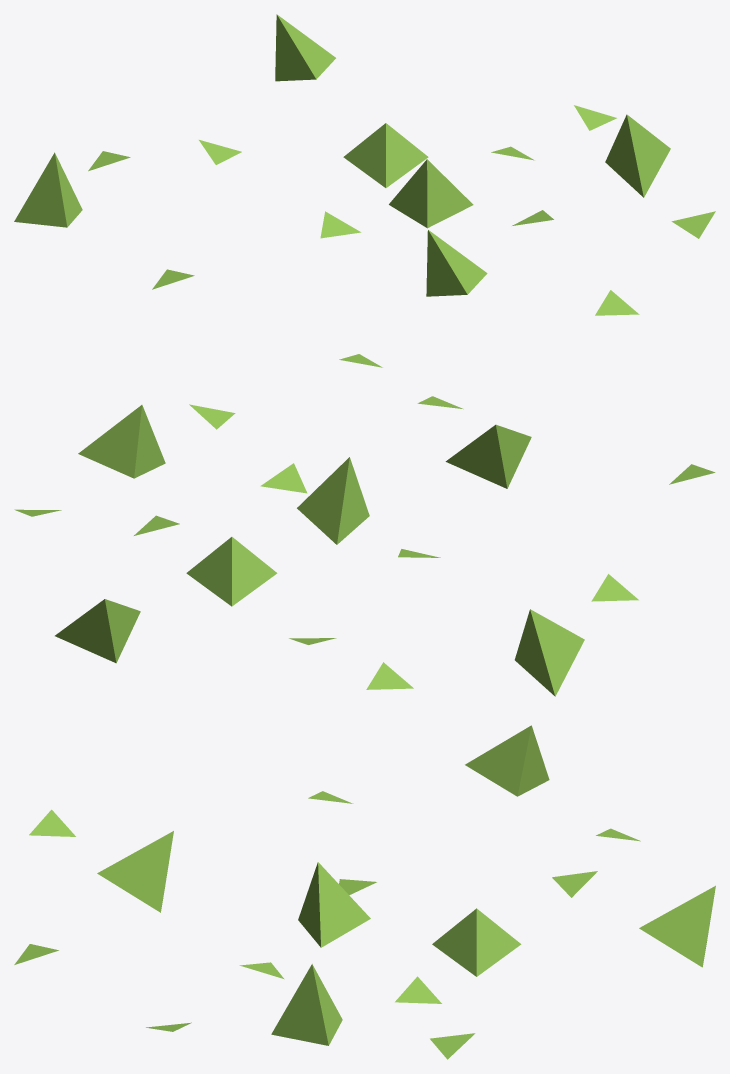
The model's file is mesh_Rubble3_v2.fbx.
3 views of the same model, one above another, from view 1: azimuth 30°, elevation 25°; view 2: azimuth 150°, elevation 25°; view 3: azimuth 270°, elevation 25° (orthographic). The views are drawn at different scales.
Parts seen in each view (by area): view 1: mesh_Rubble3_v2_0; view 2: mesh_Rubble3_v2_0; view 3: mesh_Rubble3_v2_0.
Part boxes in pixels (x1,y1,x2,y2): mesh_Rubble3_v2_0: [14, 14, 715, 367]; mesh_Rubble3_v2_0: [14, 396, 715, 696]; mesh_Rubble3_v2_0: [14, 725, 715, 1059].
Size of the model in its own units: 63.04 by 7.85 by 65.87.
